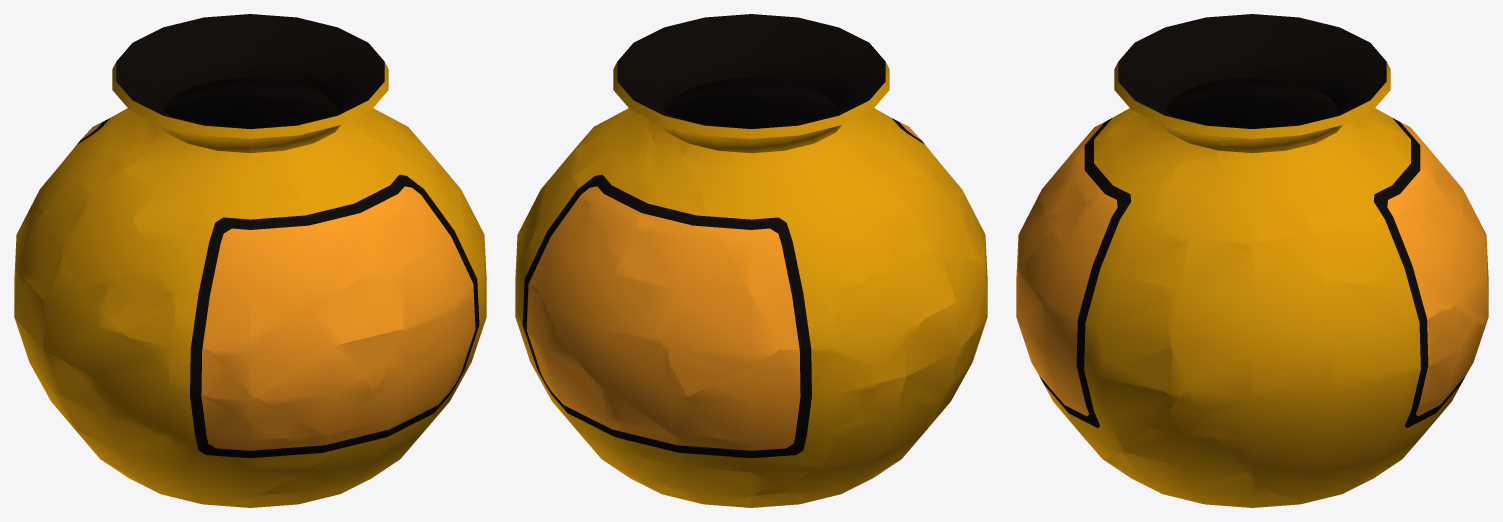
Rendered from breakableVase.fbx.
3 renders of one model, left to right at view 1: azimuth 30°, elevation 25°; view 2: azimuth 150°, elevation 25°; view 3: azimuth 270°, elevation 25°, orthographic.
Parts seen in each view (by area): view 1: Shard11, Shard03, Shard16, Shard01, Shard10, Shard08, Shard00, Shard09, Shard05, Shard14, Shard18, Shard15 (+6 smaller); view 2: Shard01, Shard12, Shard02, Shard19, Shard16, Shard18, Shard17, Shard06, Shard11, Shard21, Shard20, Shard07 (+8 smaller); view 3: Shard23, Shard18, Shard00, Shard22, Shard02, Shard10, Shard16, Shard01, Shard11, Shard13, Shard21, Shard12 (+3 smaller).
Boxes of the visible parts, <box> form: Shard11: <box>122,92,364,342</box>; Shard03: <box>44,260,324,464</box>; Shard16: <box>252,69,403,274</box>; Shard01: <box>30,16,322,216</box>; Shard10: <box>252,285,486,500</box>; Shard08: <box>44,332,314,505</box>; Shard00: <box>366,136,486,332</box>; Shard09: <box>203,311,370,438</box>; Shard05: <box>79,285,338,454</box>; Shard14: <box>58,159,170,297</box>; Shard18: <box>171,16,435,170</box>; Shard15: <box>304,237,405,396</box>; Shard01: <box>651,83,912,346</box>; Shard12: <box>621,83,783,396</box>; Shard02: <box>532,133,735,455</box>; Shard19: <box>687,347,883,490</box>; Shard16: <box>663,14,858,118</box>; Shard18: <box>576,24,705,291</box>; Shard17: <box>783,224,946,368</box>; Shard06: <box>783,369,932,498</box>; Shard11: <box>825,38,967,200</box>; Shard21: <box>528,270,690,501</box>; Shard20: <box>605,390,770,505</box>; Shard07: <box>880,284,960,424</box>; Shard23: <box>1162,242,1430,389</box>; Shard18: <box>1162,112,1466,252</box>; Shard00: <box>1018,165,1186,397</box>; Shard22: <box>1188,365,1430,502</box>; Shard02: <box>1220,208,1488,326</box>; Shard10: <box>1016,273,1178,459</box>; Shard16: <box>1045,49,1223,215</box>; Shard01: <box>1261,15,1420,138</box>; Shard11: <box>1037,14,1273,206</box>; Shard13: <box>1104,388,1307,507</box>; Shard21: <box>1359,303,1485,485</box>; Shard12: <box>1307,89,1486,243</box>.
Bounding box in the file's own units: 73.07 × 63.39 × 71.96.
